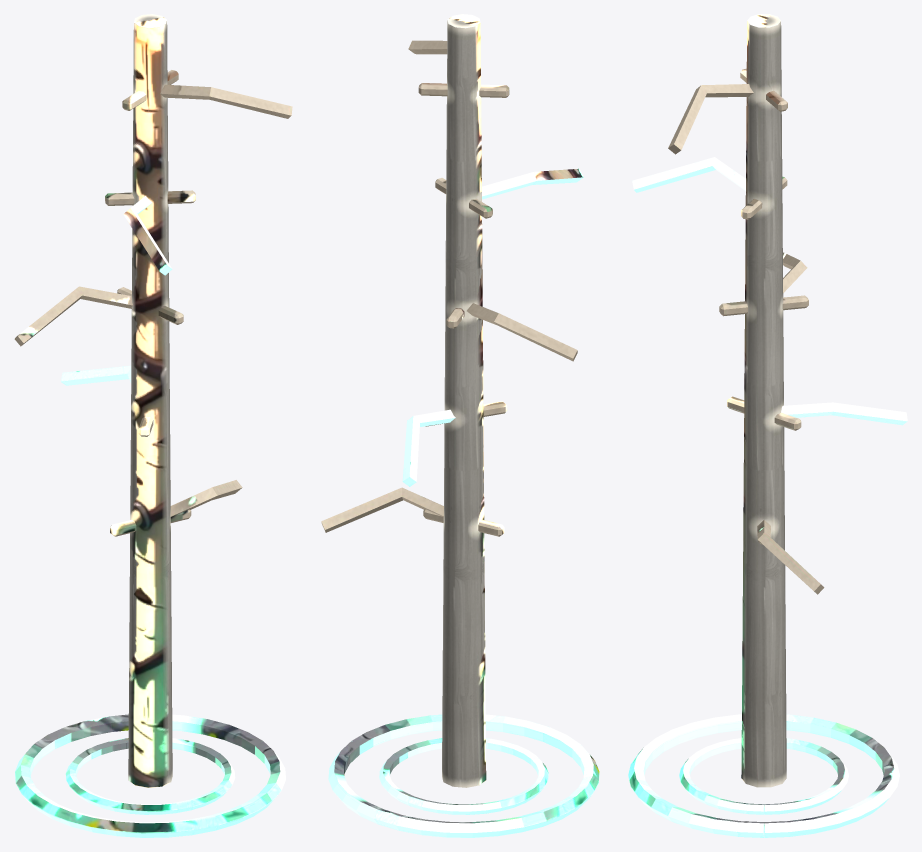
Rendered from gale.glb.
The picture shows the model from 3 angles, left to right: view 1: azimuth 30°, elevation 25°; view 2: azimuth 150°, elevation 25°; view 3: azimuth 270°, elevation 25°; orthographic projection.
Visible parts, largest first — view 1: gale; view 2: gale; view 3: gale.
Boxes of the visible parts, x1,y1,x2,y2 form: gale: (14, 14, 292, 837); gale: (321, 14, 599, 837); gale: (628, 14, 907, 837).
Size of the model in its own units: 0.9829 by 2.97 by 0.9873.
Materials: 1 (1 with a texture image).
